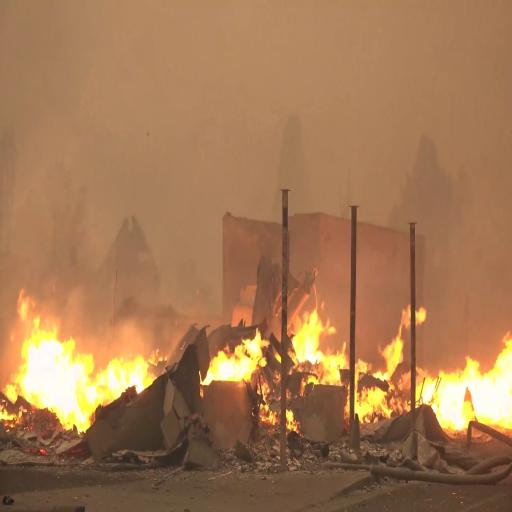fire: (410, 305, 512, 428), (14, 310, 116, 430), (357, 310, 412, 412), (299, 304, 355, 381)
